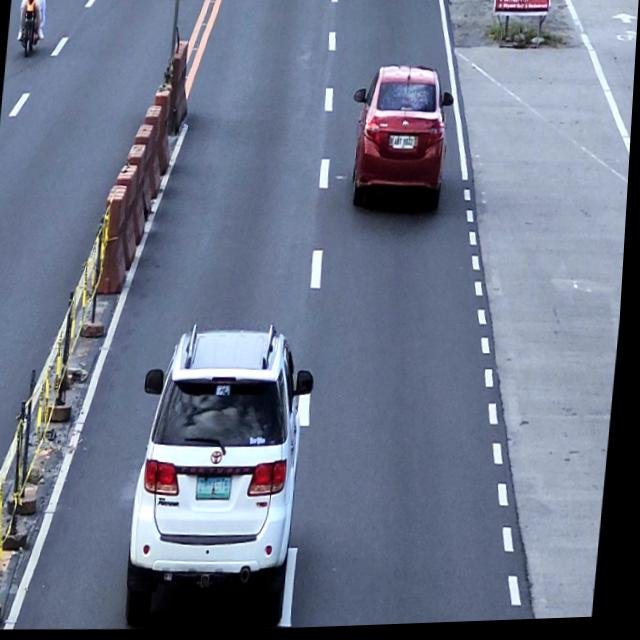Car: (127, 319, 324, 635), (344, 63, 458, 220)
License-Plate: (201, 475, 239, 502), (393, 136, 417, 153)
Motorcycle: (12, 0, 48, 57)
